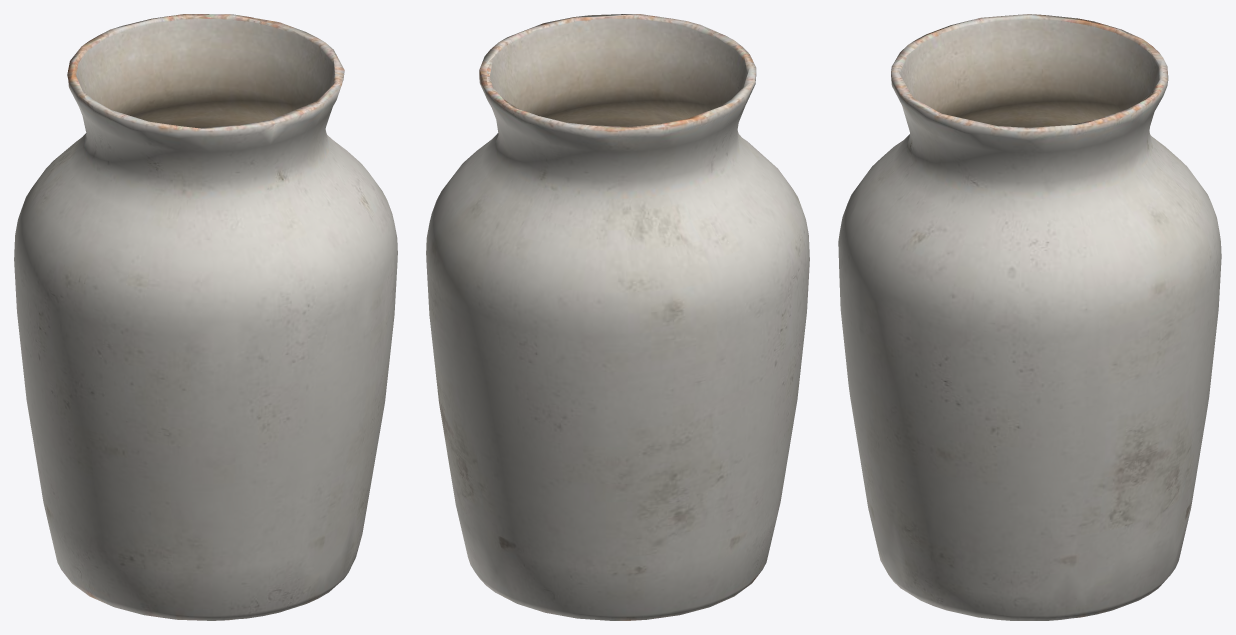
The model's file is ceramic_vase_02.glb.
3 renders of one model, left to right at view 1: azimuth 30°, elevation 25°; view 2: azimuth 150°, elevation 25°; view 3: azimuth 270°, elevation 25°, orthographic.
Parts seen in each view (by area): view 1: ceramic_vase_02; view 2: ceramic_vase_02; view 3: ceramic_vase_02.
Part boxes in pixels (x1,y1,x2,y2): ceramic_vase_02: [14, 14, 397, 620]; ceramic_vase_02: [426, 14, 809, 620]; ceramic_vase_02: [838, 14, 1221, 620].
Size of the model in its own units: 0.2184 by 0.309 by 0.218.
Materials: 1 (1 with a texture image).
